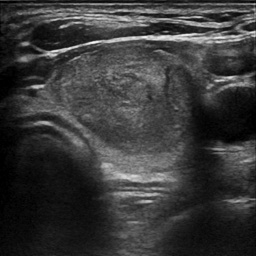mass: (51, 57, 188, 150)
